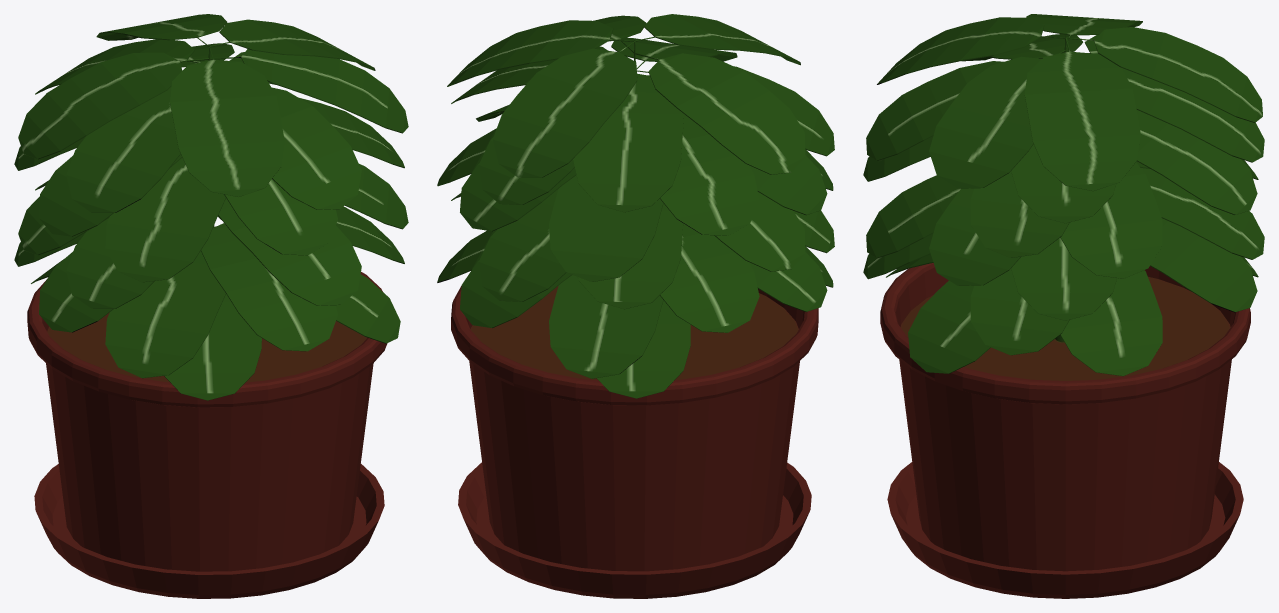
The model's file is Ficus.glb.
3 renders of one model, left to right at view 1: azimuth 30°, elevation 25°; view 2: azimuth 150°, elevation 25°; view 3: azimuth 270°, elevation 25°, orthographic.
Parts seen in each view (by area): view 1: фикус; view 2: фикус; view 3: фикус.
Boxes of the visible parts, x1,y1,x2,y2 form: фикус: [14, 14, 408, 598]; фикус: [437, 14, 834, 598]; фикус: [863, 14, 1264, 598].
Size of the model in its own units: 0.4349 by 0.5932 by 0.4335.
1 material, 1 textured.
